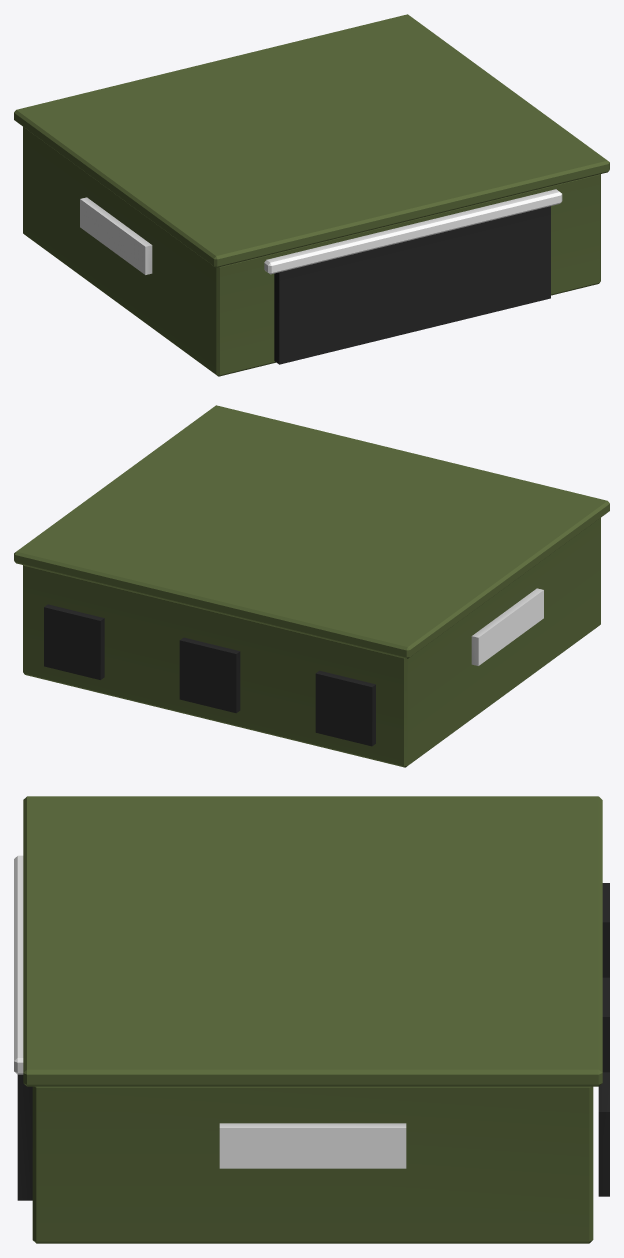
The model's file is ua-vehicle-factory.glb.
The picture shows the model from 3 angles, top to bottom: view 1: azimuth 30°, elevation 25°; view 2: azimuth 150°, elevation 25°; view 3: azimuth 270°, elevation 25°; orthographic projection. The views are drawn at different scales.
Parts seen in each view (by area): view 1: ua-vehicle-factory; view 2: ua-vehicle-factory; view 3: ua-vehicle-factory.
Boxes of the visible parts, x1,y1,x2,y2 form: ua-vehicle-factory: (14,14,609,376); ua-vehicle-factory: (14,405,609,767); ua-vehicle-factory: (14,796,609,1243).
Bounding box in the file's own units: 3.52 × 1.05 × 3.19.
